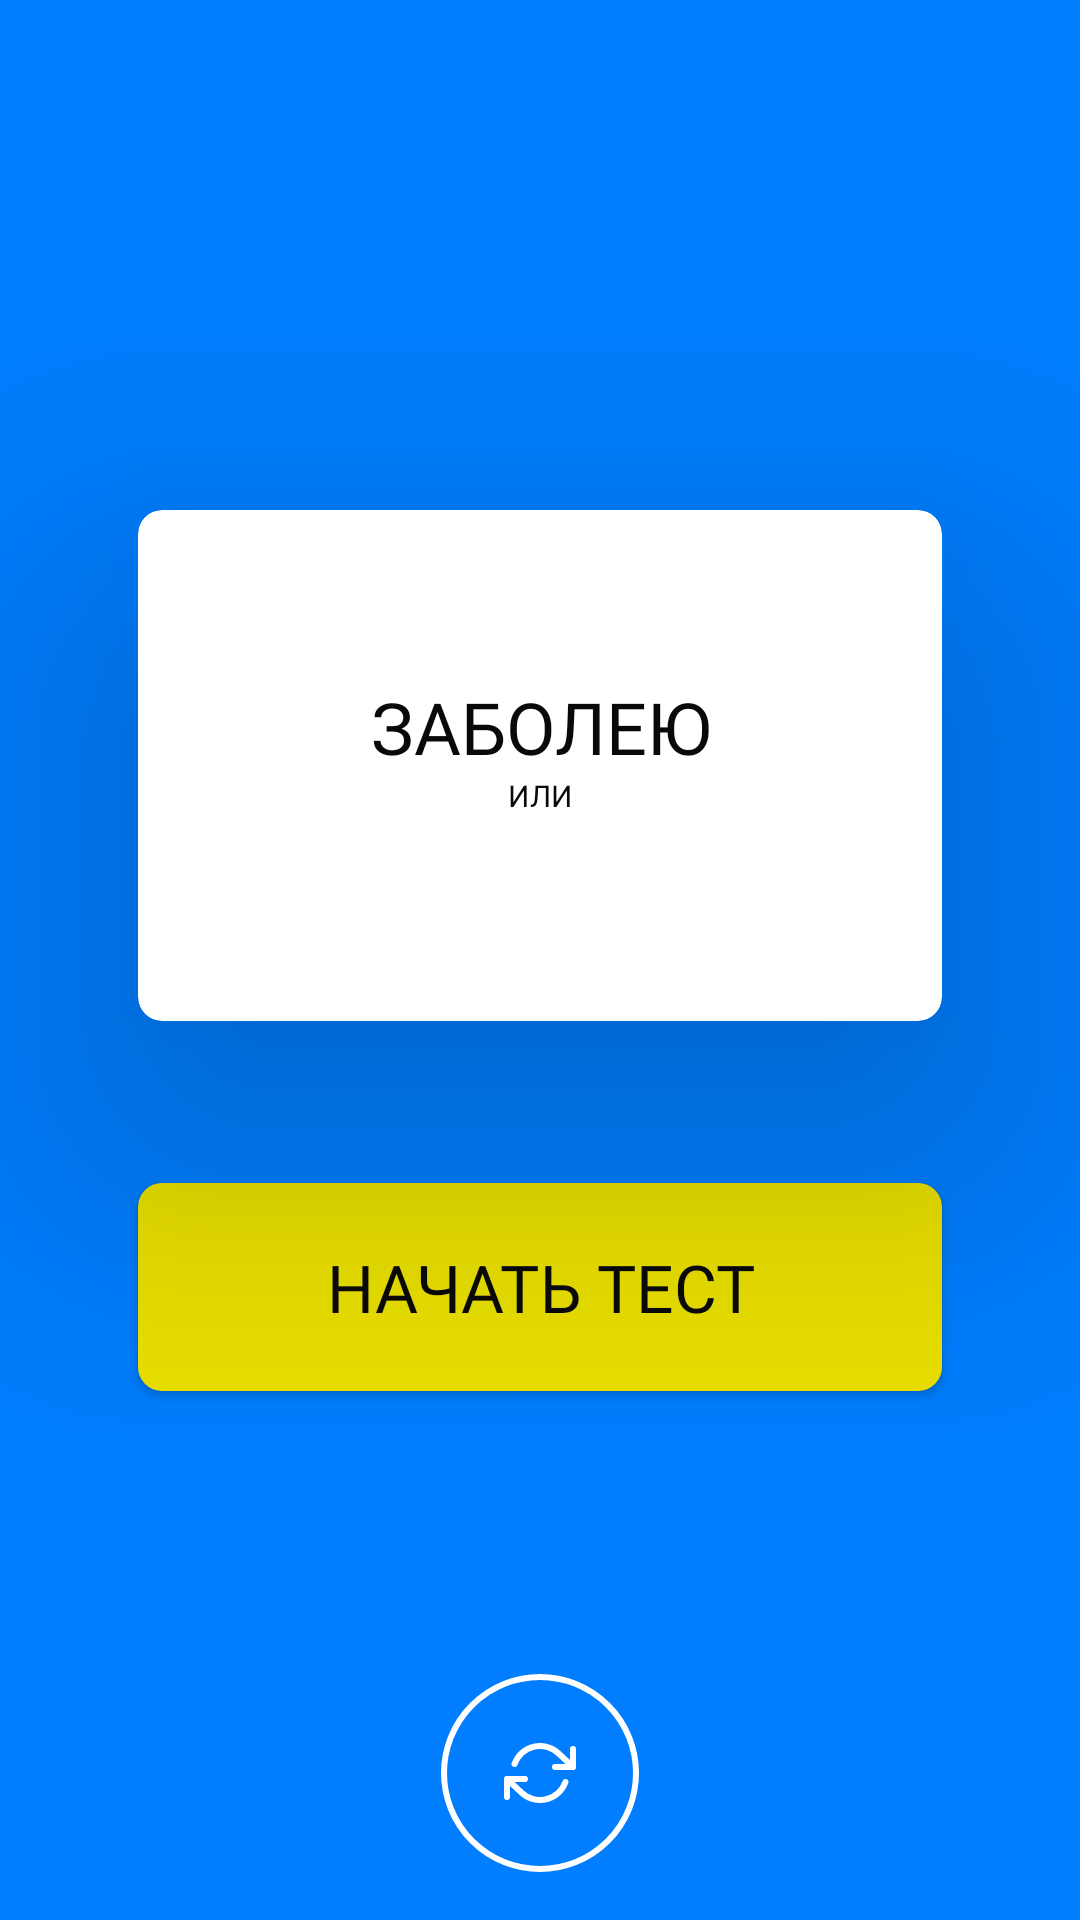

Where icons sit on this 1080 x 1920 app screen, as (x1, y1, x2, y2):
refresh right: (504, 1743, 576, 1803)
